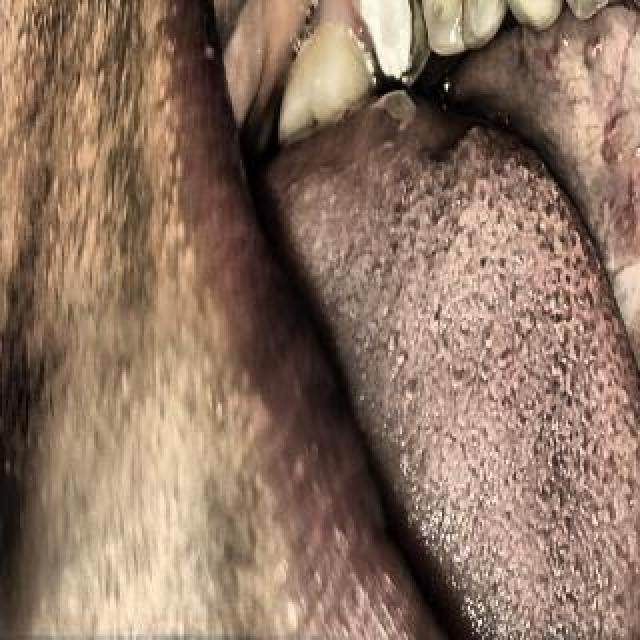cavities: (328, 0, 436, 76)
stains: (272, 315, 376, 455)
